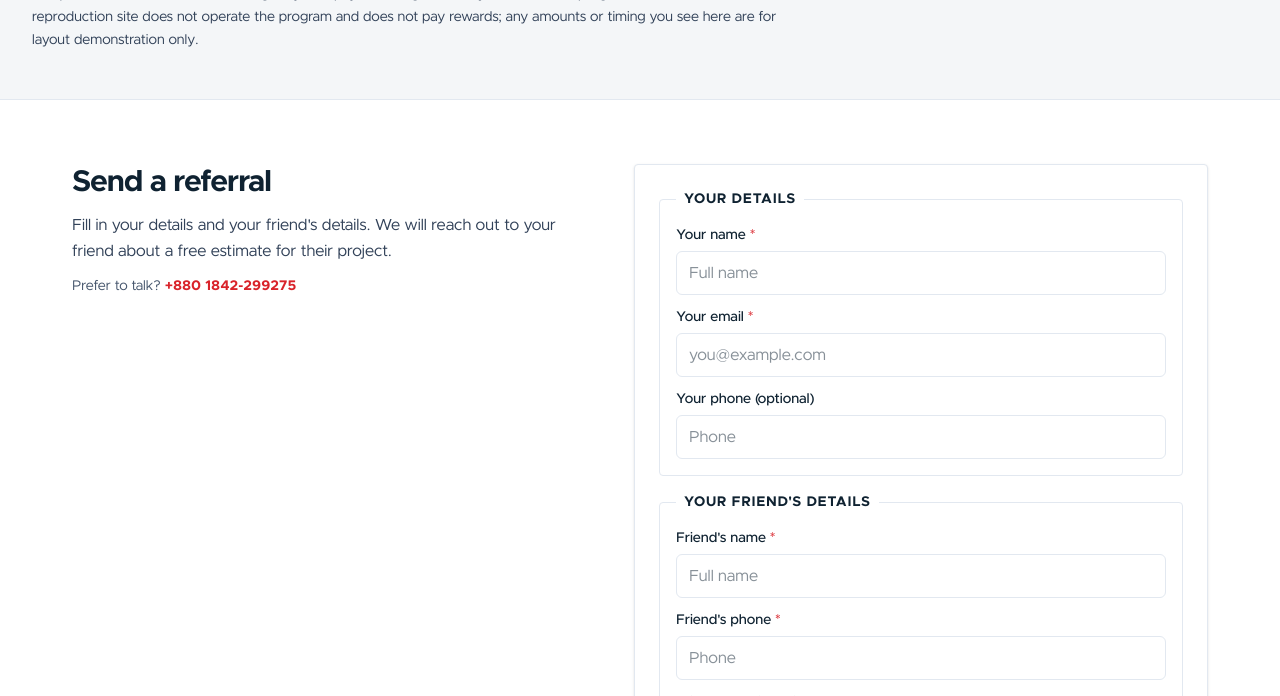
it: ReferAFriend form behavior › rejects an invalid referrer email
(page scrolled)
In the field labelled "Your email *": (921, 355) x1=676 y1=333 x2=1166 y2=377, type "not-an-email"
(page scrolled)
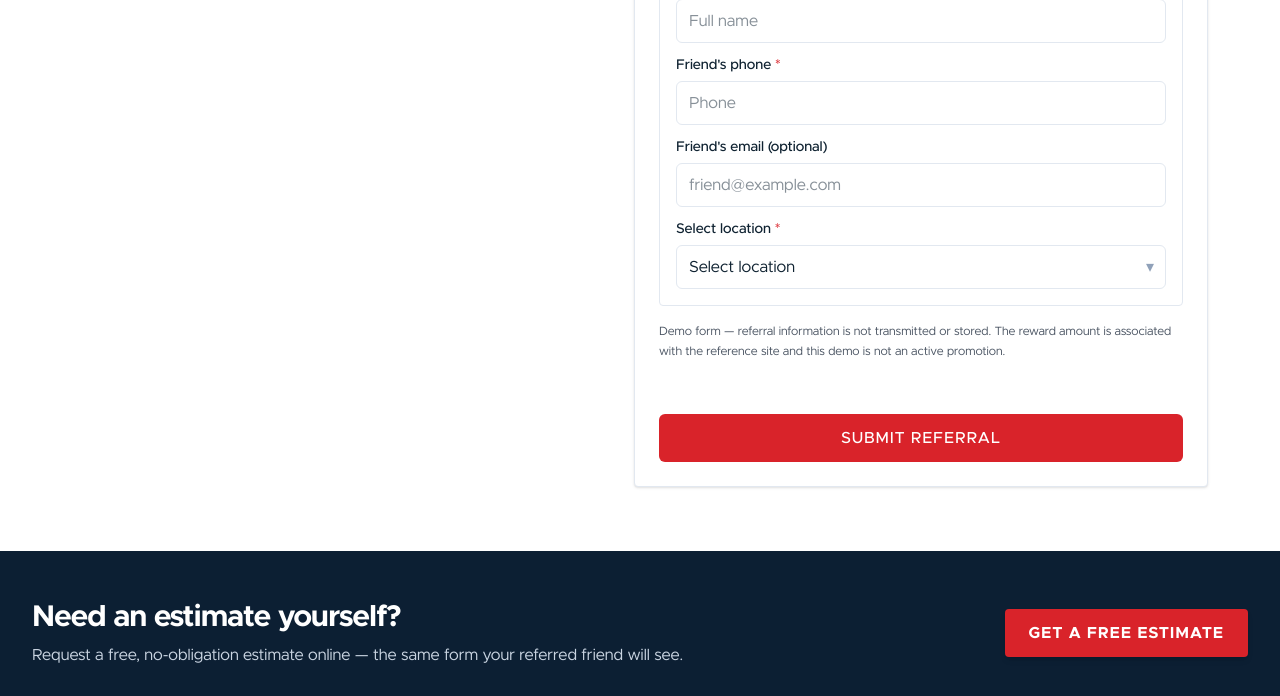
Click the button "Submit Referral": (921, 438) x1=659 y1=414 x2=1183 y2=462
(page scrolled)
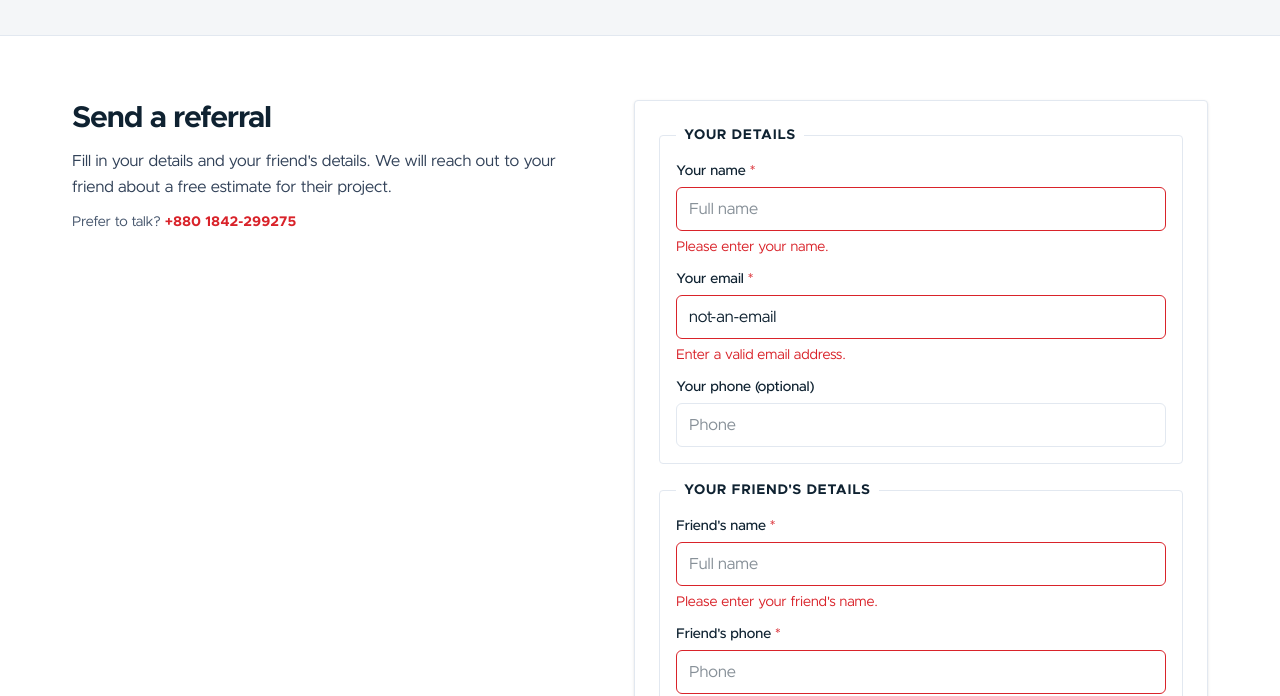
Check: the text "Enter a valid email address." is shown, box x1=676 y1=348 x2=846 y2=362
